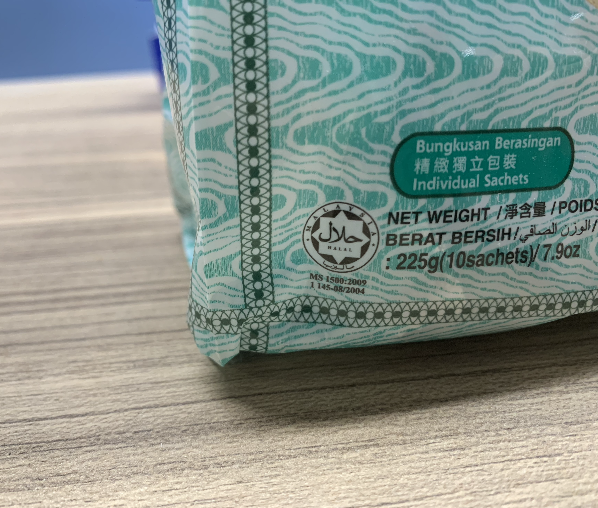halal: (314, 213, 369, 262)
